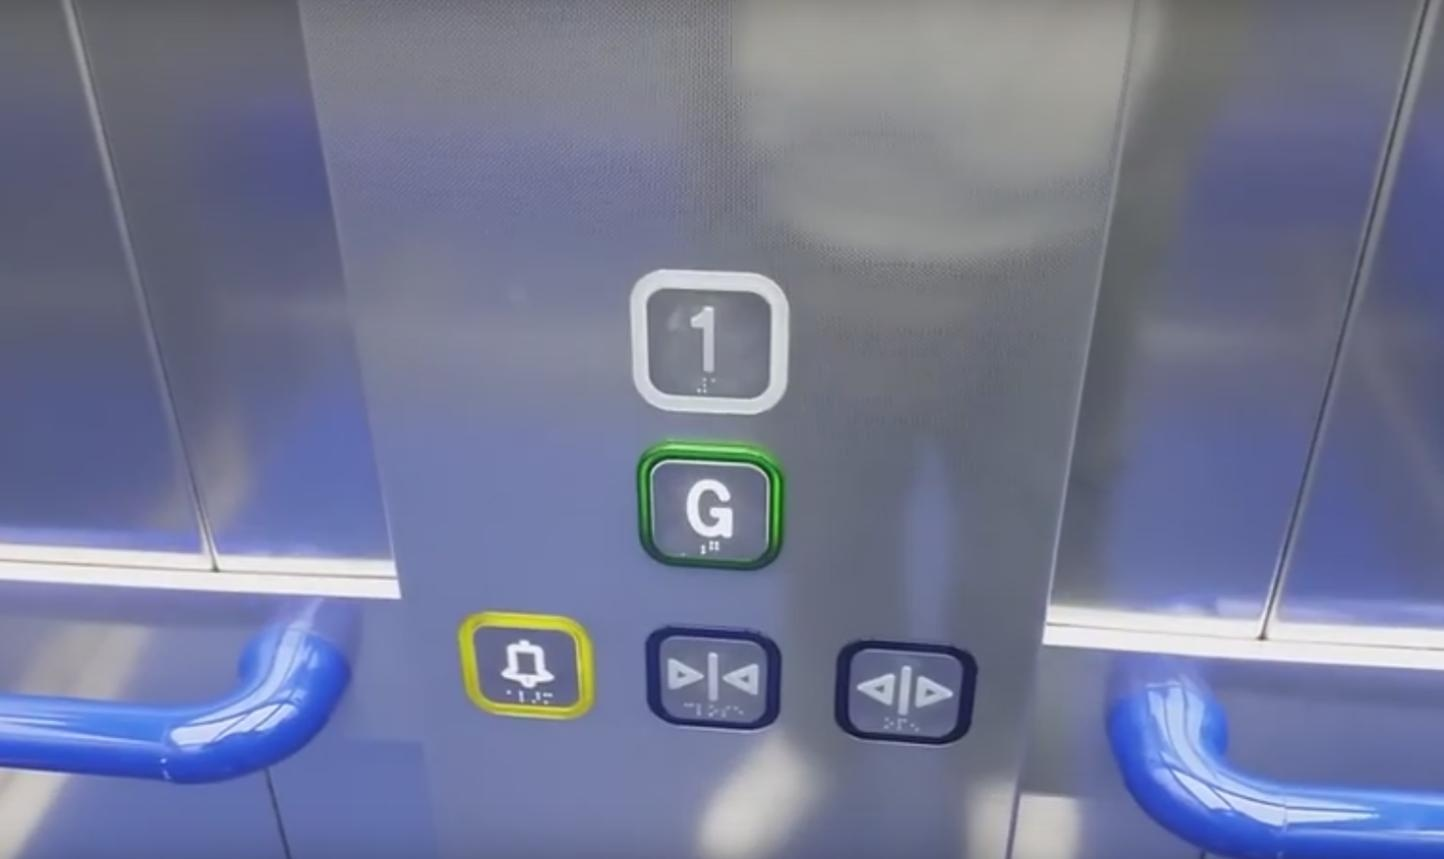1: (625, 261, 795, 420)
G: (630, 436, 787, 577)
alarm: (452, 606, 600, 727)
close: (638, 620, 787, 735)
open: (830, 635, 982, 750)
